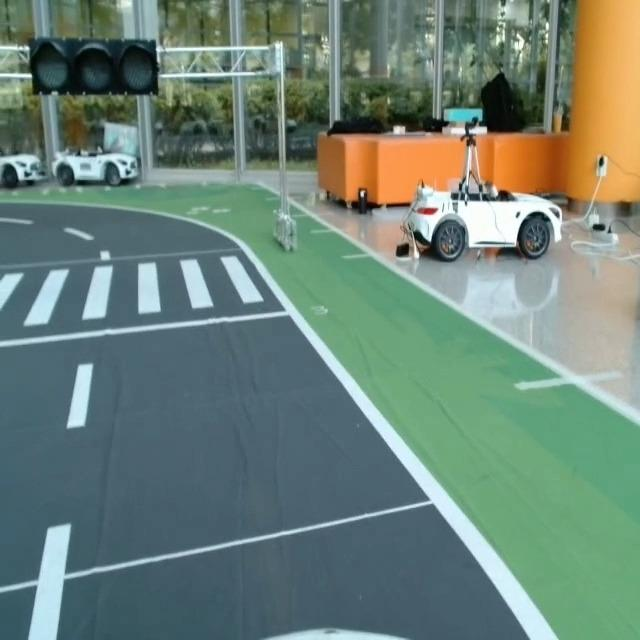traffic-light: (27, 36, 169, 94)
